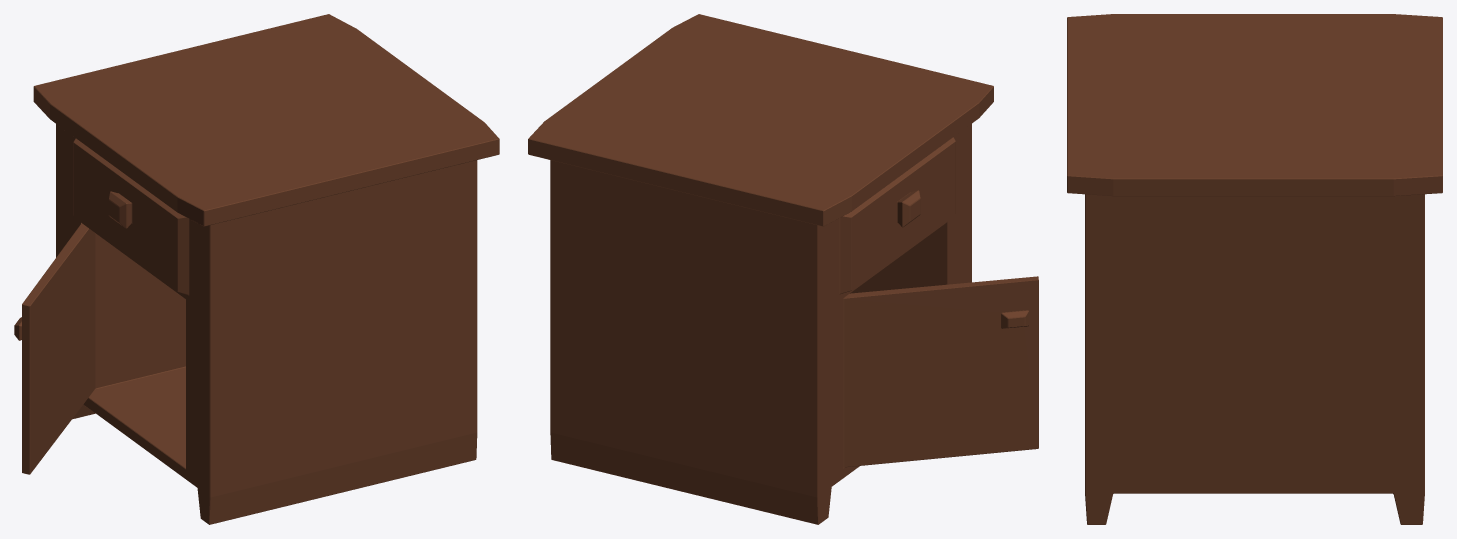
File: Cabinet.fbx
The picture shows the model from 3 angles, left to right: view 1: azimuth 30°, elevation 25°; view 2: azimuth 150°, elevation 25°; view 3: azimuth 270°, elevation 25°; orthographic projection. The views are drawn at different scales.
Visible parts, largest first — view 1: F_Cabinet; view 2: F_Cabinet; view 3: F_Cabinet.
Boxes of the visible parts, left/top/right/bottom form: F_Cabinet: left=14, top=14, right=499, bottom=524; F_Cabinet: left=528, top=14, right=1038, bottom=524; F_Cabinet: left=1067, top=14, right=1442, bottom=524.
Size of the model in its own units: 310 by 232 by 221.
